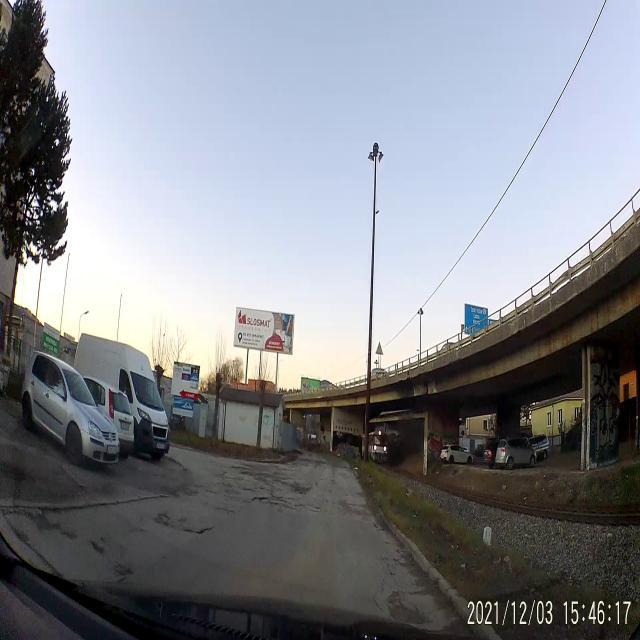Pothole: (381, 575, 431, 627), (182, 521, 214, 538), (251, 495, 271, 507)
